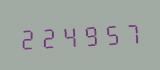five: (102, 18, 122, 47)
four: (60, 21, 80, 49)
nine: (81, 19, 101, 48)
seven: (123, 17, 143, 46)
two: (17, 23, 37, 52), (38, 22, 58, 51)
